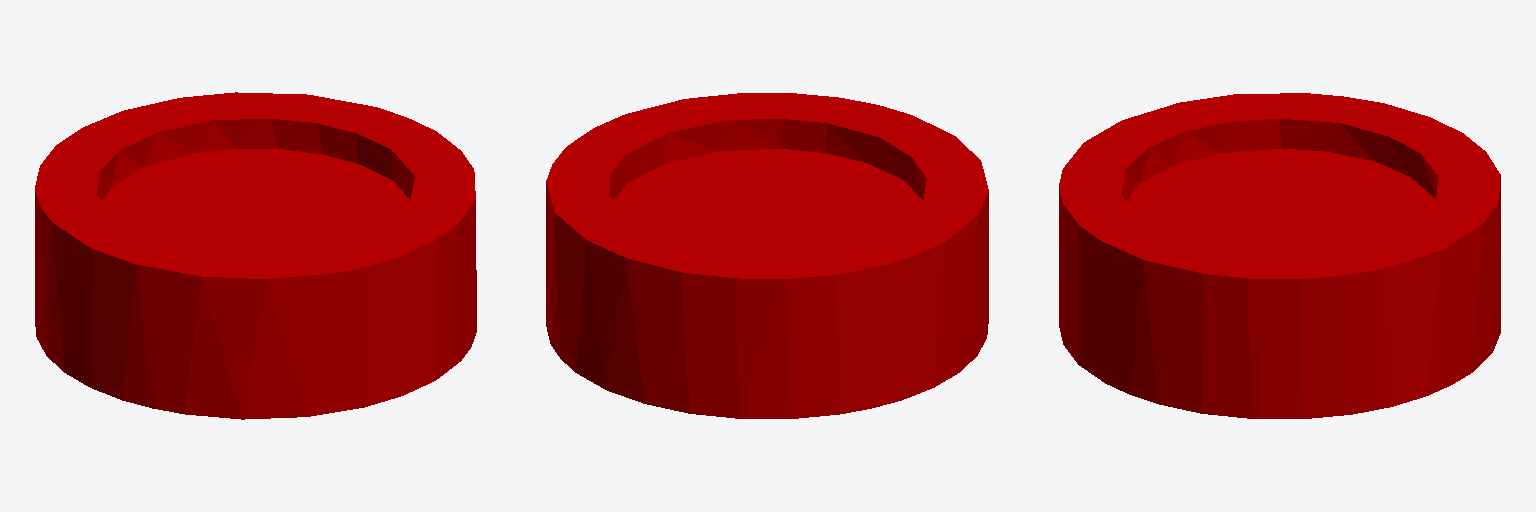
The model's file is Disc.obj.
3 views of the same model, side by side, from view 1: azimuth 30°, elevation 25°; view 2: azimuth 150°, elevation 25°; view 3: azimuth 270°, elevation 25° (orthographic).
Parts seen in each view (by area): view 1: RedDisc_4gewinnt.001; view 2: RedDisc_4gewinnt.001; view 3: RedDisc_4gewinnt.001.
Boxes of the visible parts, <box> form: RedDisc_4gewinnt.001: <box>35,92,476,419</box>; RedDisc_4gewinnt.001: <box>546,93,988,418</box>; RedDisc_4gewinnt.001: <box>1059,93,1500,418</box>.
Size of the model in its own units: 13.8 by 4.83 by 13.81.